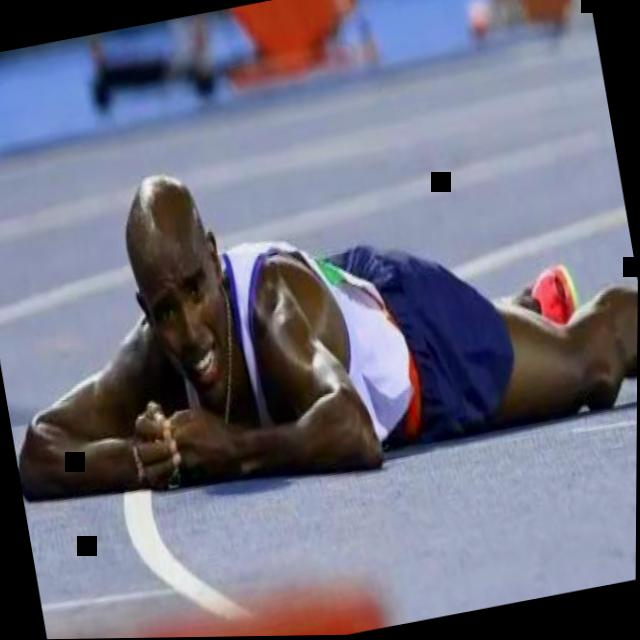Fall-Detected: (0, 78, 640, 530)
